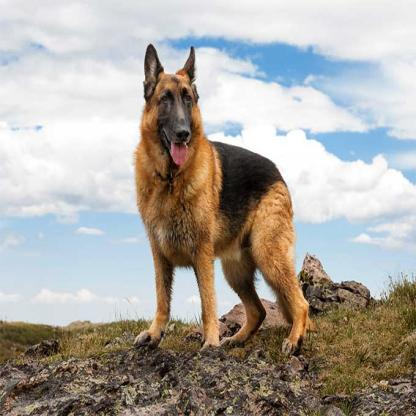german shepherd: (134, 41, 312, 350)
